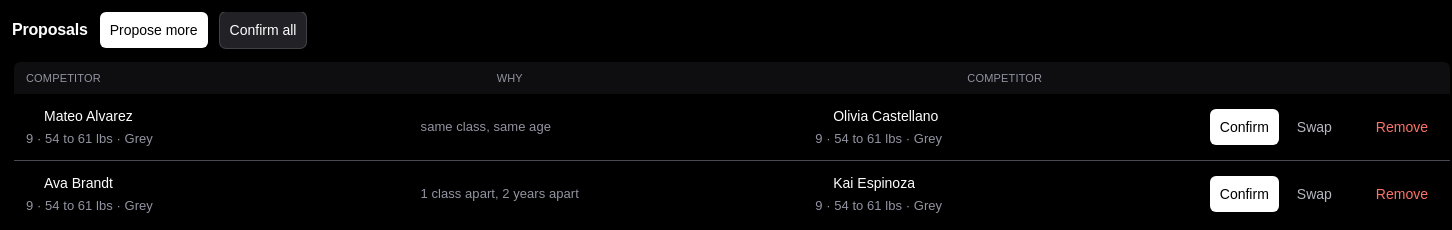
Scenario: ProposalsPanel › confirms one row, which leaves the list for the running order
Expected: the text "same class, same age" is shown, [421,119,551,134]
Click the button named "Confirm Mateo Alvarez versus Olivia Castellano": (1244,127) [1210,109,1279,145]
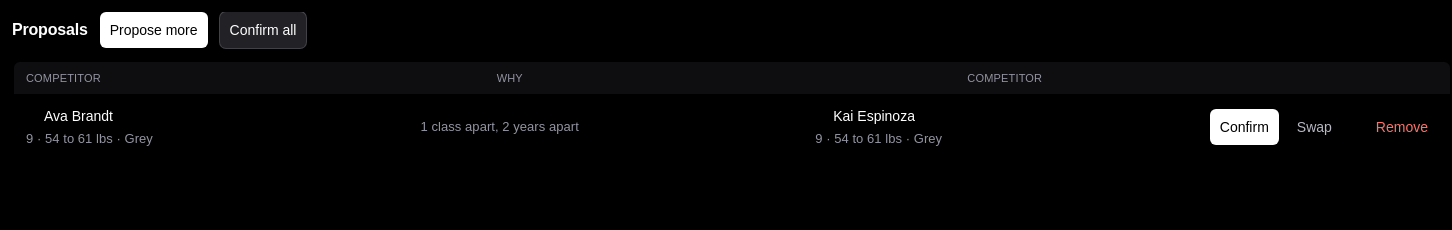
Expected: the text "1 class apart, 2 years apart" is shown, [421,119,579,134]
Result: the text "same class, same age" is gone
